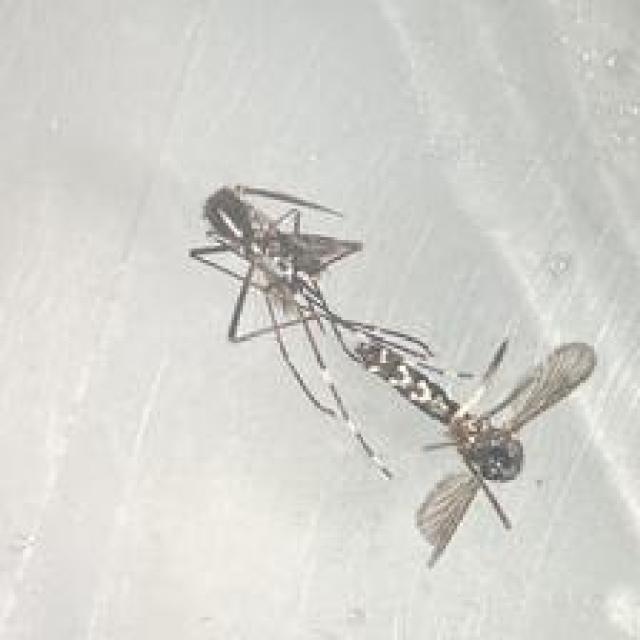Aedes albopictus: (189, 181, 597, 570)
